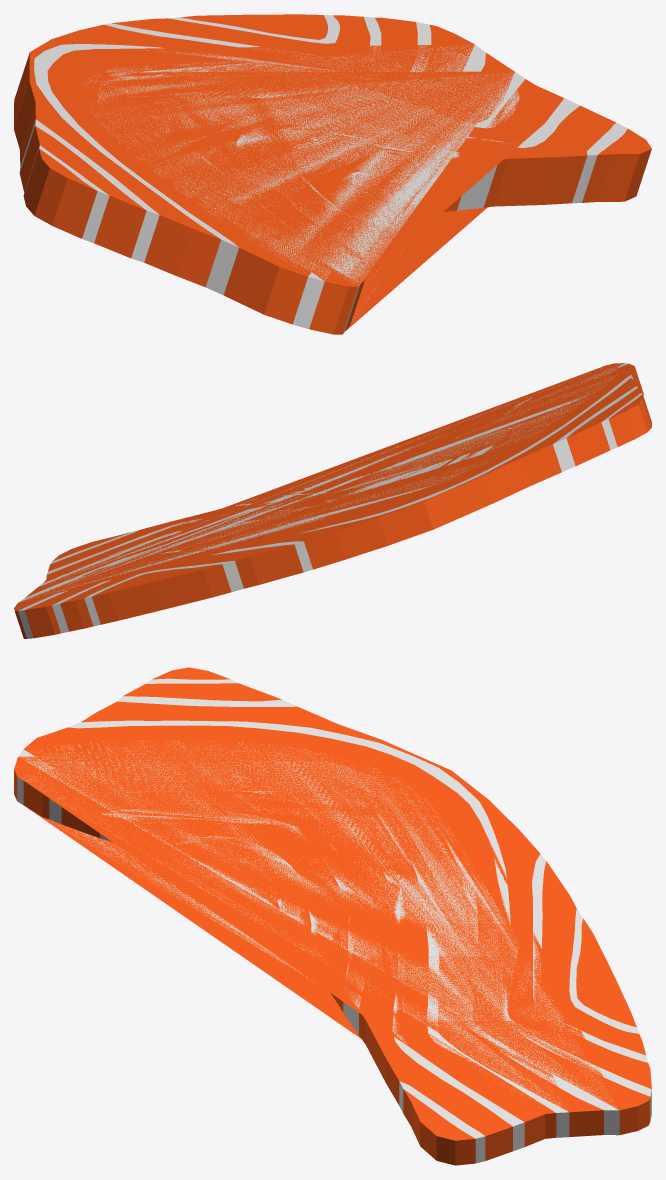
The model's file is salmon_cook.fbx.
The picture shows the model from 3 angles, top to bottom: view 1: azimuth 30°, elevation 25°; view 2: azimuth 150°, elevation 25°; view 3: azimuth 270°, elevation 25°; orthographic projection. The views are drawn at different scales.
Visible parts, largest first — view 1: Plan.009; view 2: Plan.009; view 3: Plan.009.
Part boxes in pixels (x1,y1,x2,y2): Plan.009: (14,14,651,334); Plan.009: (14,363,651,638); Plan.009: (14,667,651,1165).
Size of the model in its own units: 145 by 60.24 by 145.
